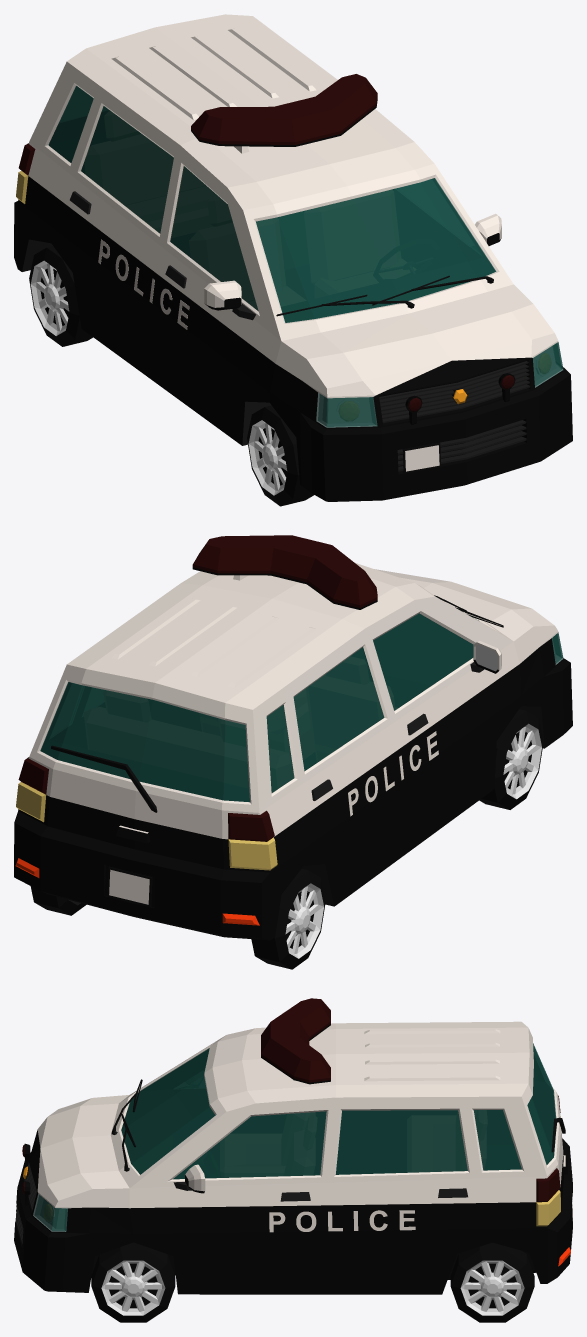
File: PoliceVan_05.FBX
The picture shows the model from 3 angles, top to bottom: view 1: azimuth 30°, elevation 25°; view 2: azimuth 150°, elevation 25°; view 3: azimuth 270°, elevation 25°; orthographic projection. The views are drawn at different scales.
Visible parts, largest first — view 1: PoliceVan_05, interior, seat_b, seat_f_l, seat_f_r, wheel_f_r, wheel_b_r, grill_01, signalLights_01, signalLights_02, grill_02, signalLights_03 (+4 smaller); view 2: PoliceVan_05, interior, seat_b, seat_f_r, wheel_b_r, wheel_f_r, signalLights_02, signalLights_01, backupLights, tailLights, seat_f_l, signalLights_03 (+5 smaller); view 3: PoliceVan_05, interior, wheel_b_l, wheel_f_l, seat_b, seat_f_r, signalLights_02, signalLights_01, seat_f_l, signalLights_03, backupLights, tailLights (+2 smaller).
Boxes of the visible parts, left/top/right/bottom form: PoliceVan_05: left=14, top=14, right=572, bottom=501; interior: left=49, top=86, right=495, bottom=322; seat_b: left=84, top=111, right=308, bottom=269; seat_f_l: left=304, top=190, right=415, bottom=297; seat_f_r: left=189, top=196, right=305, bottom=310; wheel_f_r: left=247, top=405, right=313, bottom=506; wheel_b_r: left=29, top=246, right=92, bottom=346; grill_01: left=379, top=361, right=530, bottom=423; signalLights_01: left=191, top=106, right=421, bottom=411; signalLights_02: left=315, top=74, right=514, bottom=389; grill_02: left=397, top=420, right=526, bottom=471; signalLights_03: left=274, top=96, right=340, bottom=144; PoliceVan_05: left=14, top=562, right=572, bottom=940; interior: left=41, top=613, right=472, bottom=801; seat_b: left=84, top=691, right=294, bottom=792; seat_f_r: left=306, top=657, right=397, bottom=762; wheel_b_r: left=251, top=868, right=325, bottom=969; wheel_f_r: left=479, top=709, right=543, bottom=809; signalLights_02: left=192, top=535, right=291, bottom=573; signalLights_01: left=307, top=545, right=377, bottom=607; backupLights: left=16, top=782, right=277, bottom=870; tailLights: left=18, top=757, right=274, bottom=841; seat_f_l: left=200, top=690, right=314, bottom=767; signalLights_03: left=270, top=535, right=331, bottom=582; PoliceVan_05: left=14, top=1021, right=572, bottom=1294; interior: left=122, top=1046, right=555, bottom=1178; wheel_b_l: left=450, top=1242, right=534, bottom=1322; wheel_f_l: left=91, top=1242, right=175, bottom=1322; seat_b: left=407, top=1110, right=486, bottom=1172; seat_f_r: left=220, top=1113, right=314, bottom=1177; signalLights_02: left=22, top=1038, right=330, bottom=1194; signalLights_01: left=22, top=998, right=330, bottom=1156; seat_f_l: left=284, top=1115, right=316, bottom=1175; signalLights_03: left=261, top=1021, right=309, bottom=1053; backupLights: left=536, top=1116, right=560, bottom=1226; tailLights: left=536, top=1095, right=560, bottom=1202.
Bounding box in the file's own units: 28.85 × 57.4 × 27.57.
